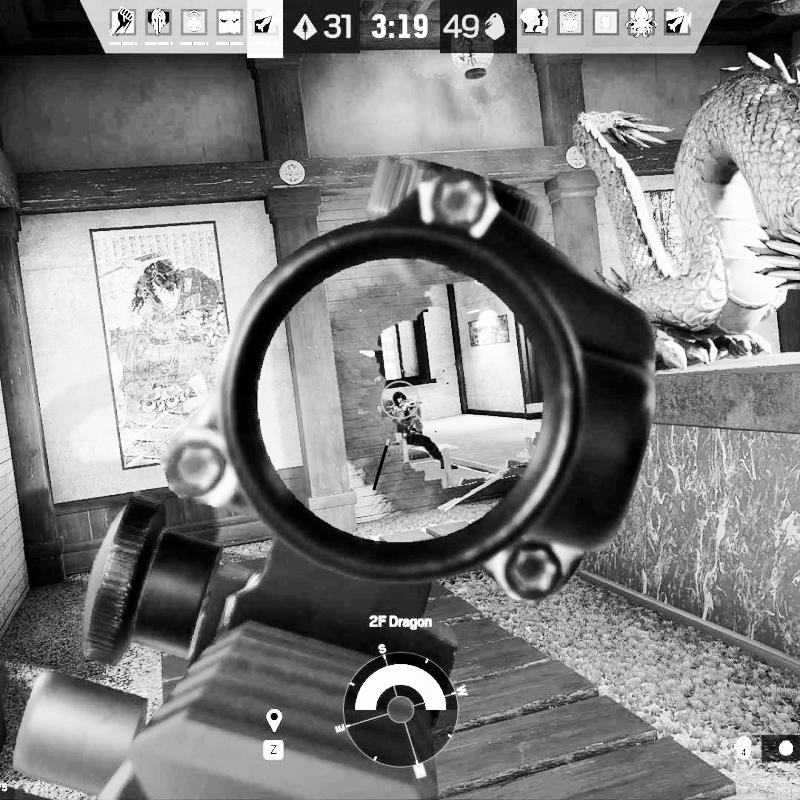Character: (379, 388, 447, 470)
Head: (391, 390, 409, 412)
